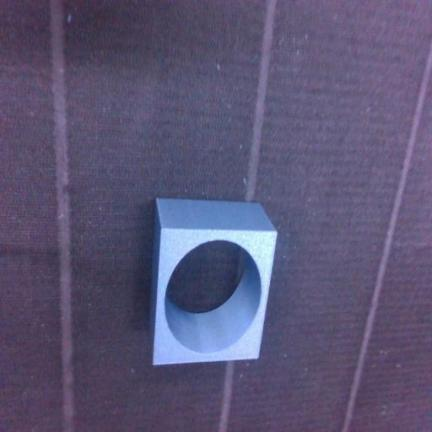hole: (152, 200, 276, 364)
